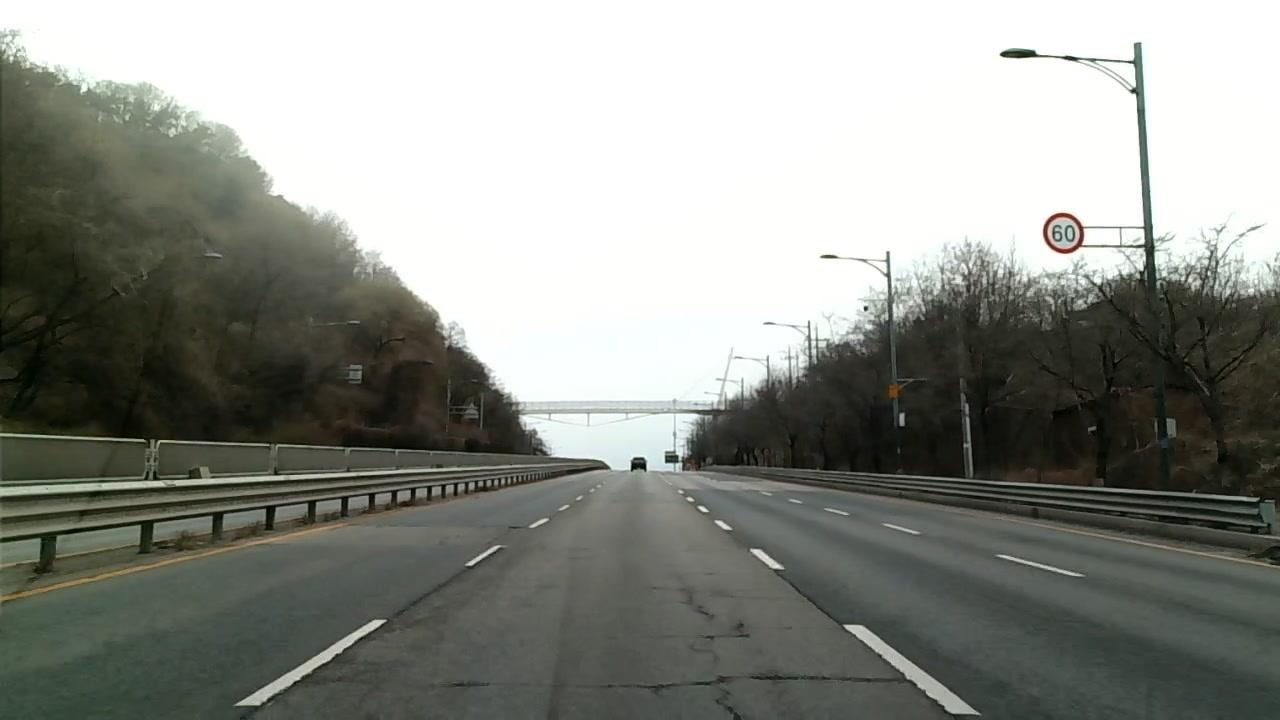hcrack: (772, 567, 959, 720), (417, 660, 915, 690), (654, 629, 757, 642)
vcrack: (390, 567, 469, 617), (673, 583, 721, 624), (709, 679, 751, 720)
